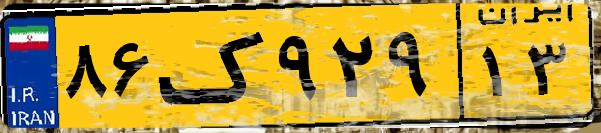1: (475, 38, 525, 113)
2: (330, 28, 385, 110)
3: (525, 38, 570, 115)
6: (110, 28, 158, 98)
8: (57, 26, 110, 100)
9: (270, 28, 330, 110), (385, 28, 445, 110)
ک: (158, 12, 270, 120)
